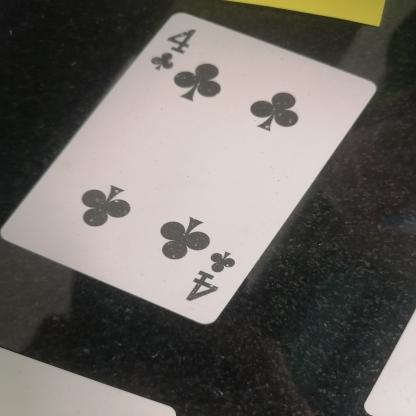4C: (135, 14, 214, 84), (184, 248, 246, 312)
